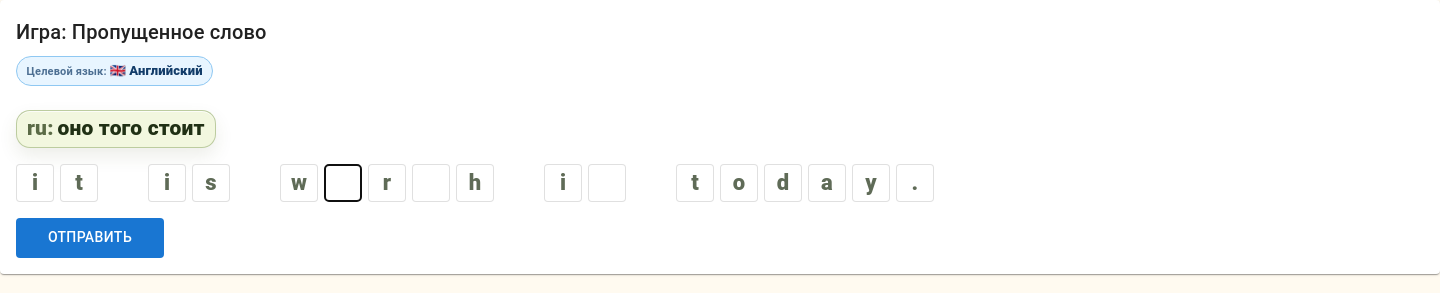
Scenario: MissingWordExercise › shows a green success state without repeating the correct phrase
This screenshot has width=1440, height=293.
Type "o" into the field named "Missing word letter" at (343, 183), box [324,164,362,202]
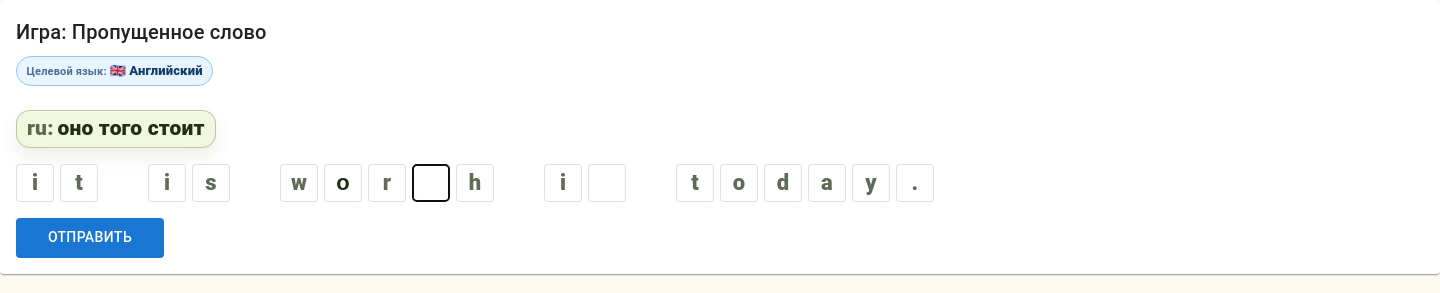
Type "t" into the field named "Missing word letter" at (431, 183), box [412,164,450,202]
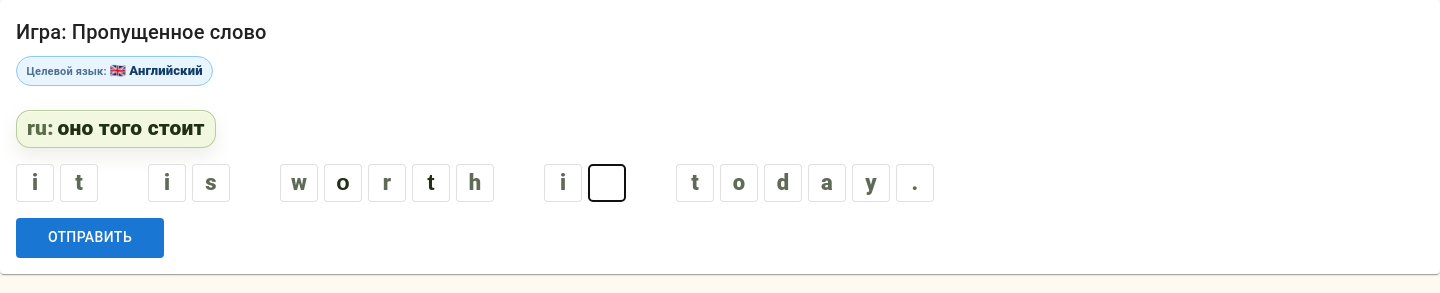
Type "t" into the field named "Missing word letter" at (607, 183), box [588,164,626,202]
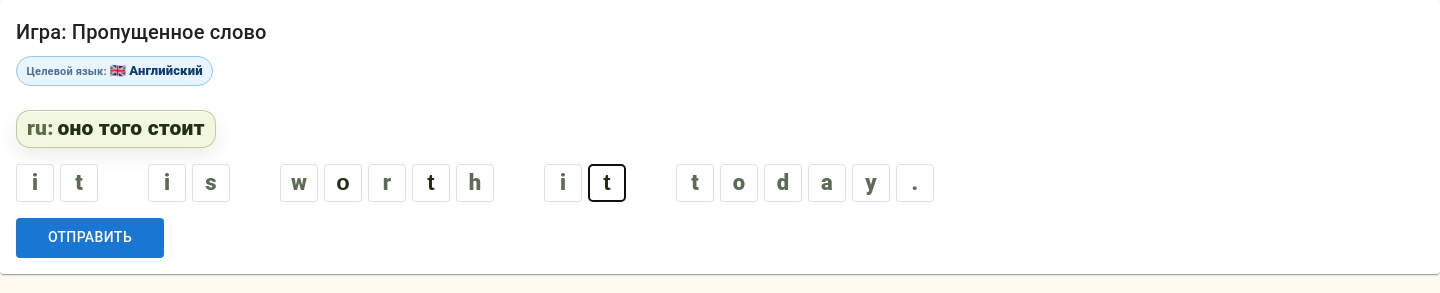
Click the button "Отправить" at (90, 238), box [16,218,164,258]
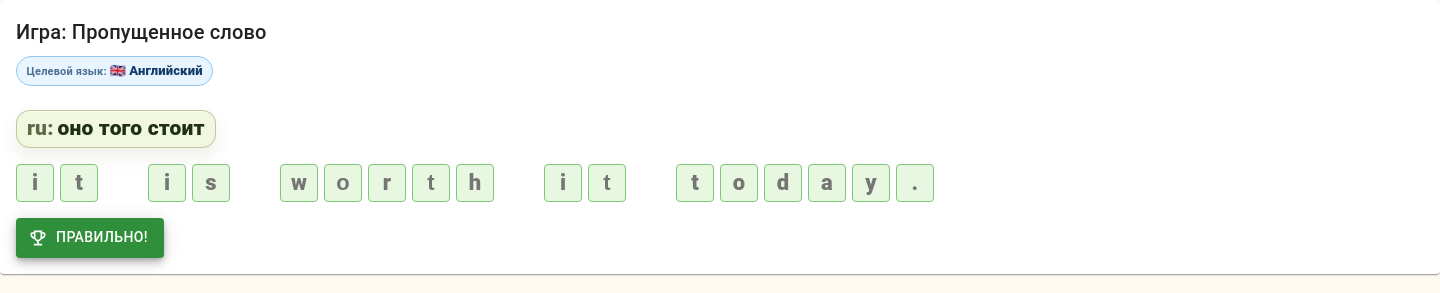
Expected: the button "Правильно!" is shown, [16,218,164,258]
